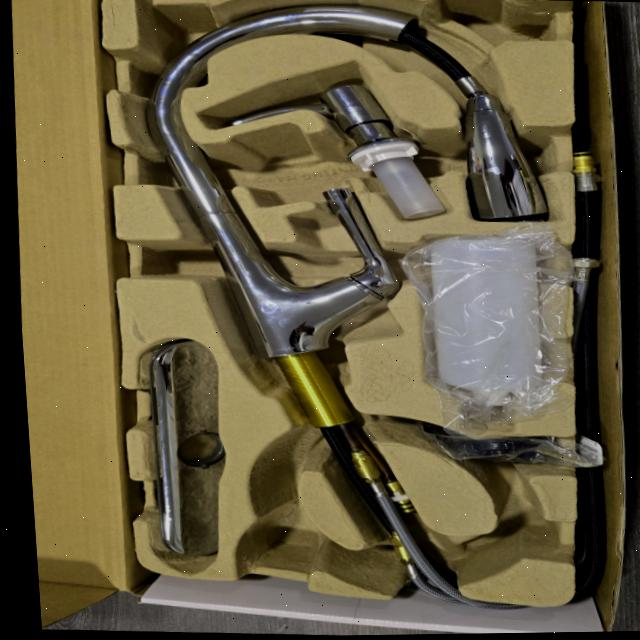1: (145, 4, 549, 602)
2: (223, 84, 444, 221)
3: (426, 236, 546, 421)
4: (149, 339, 226, 556)
5m: (247, 507, 322, 568)
6m: (454, 498, 559, 575)
7: (422, 424, 603, 467)
